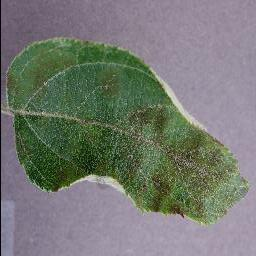apple healthy: (5, 35, 250, 226)
